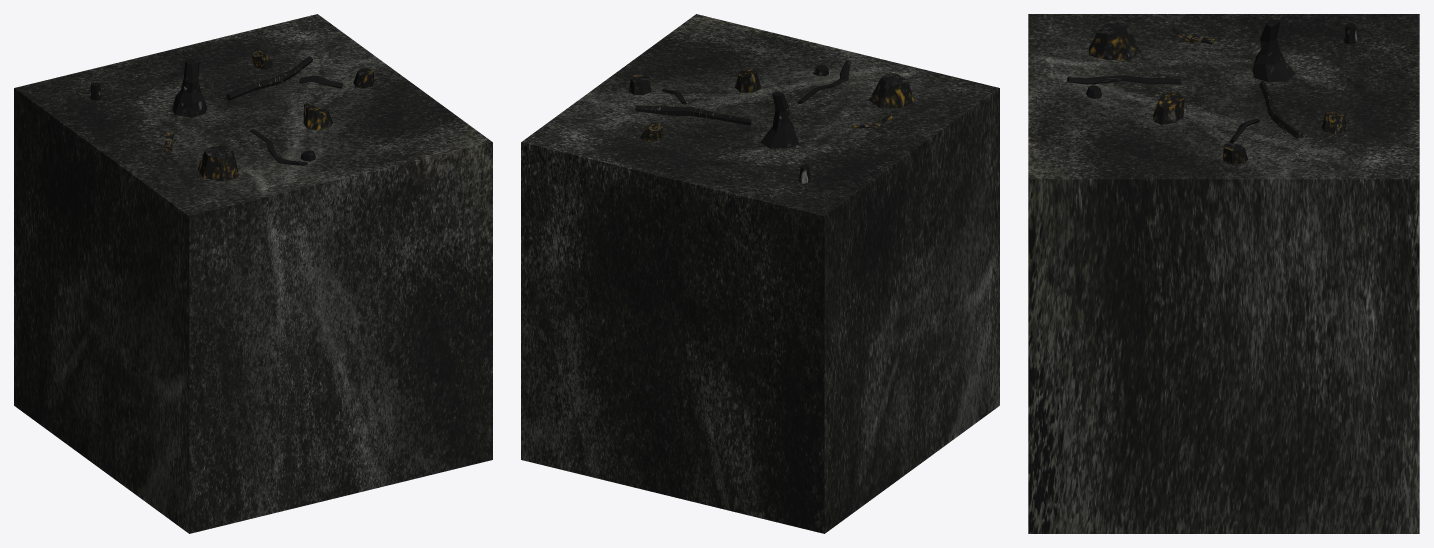
Rendered from TileGozdPozgan.fbx.
3 views of the same model, side by side, from view 1: azimuth 30°, elevation 25°; view 2: azimuth 150°, elevation 25°; view 3: azimuth 270°, elevation 25° (orthographic). The views are drawn at different scales.
Visible parts, largest first — view 1: Cylinder.001; view 2: Cylinder.001; view 3: Cylinder.001.
Boxes of the visible parts, x1,y1,x2,y2 form: Cylinder.001: [14, 14, 492, 533]; Cylinder.001: [521, 14, 999, 533]; Cylinder.001: [1028, 14, 1419, 533].
Size of the model in its own units: 200 by 230 by 200.
